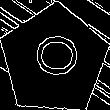O_W: (28, 37, 80, 83)
